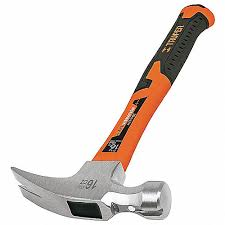martillu: (5, 4, 216, 221)
